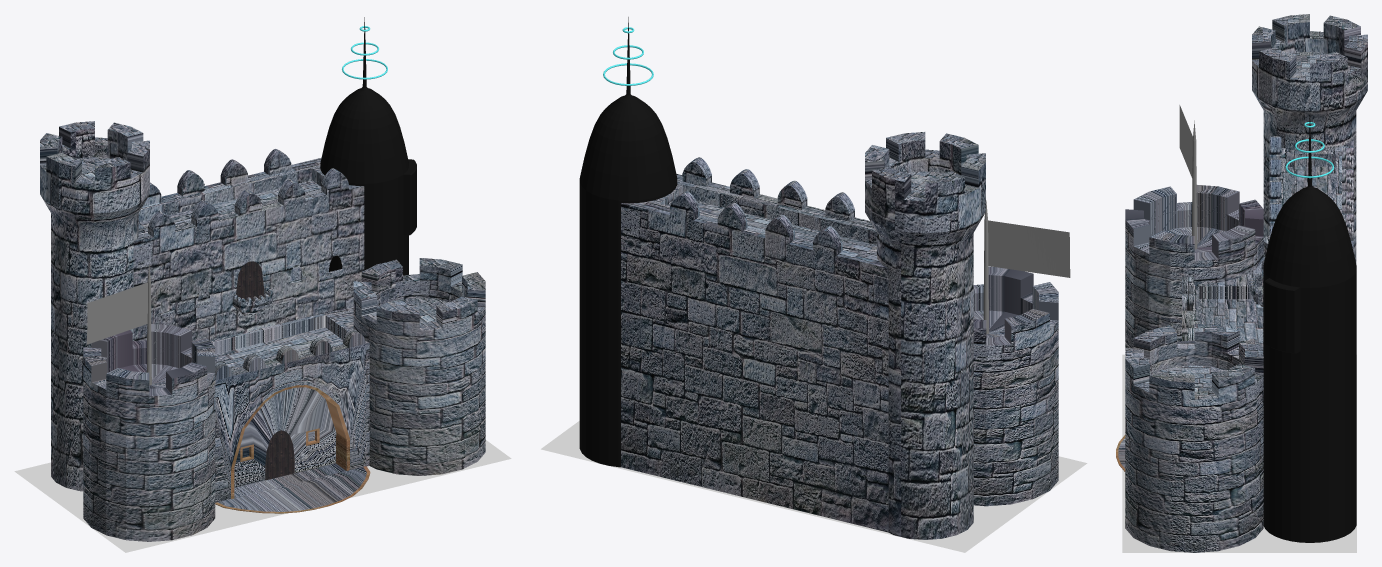
File: CastilloMateriales.FBX
3 views of the same model, side by side, from view 1: azimuth 30°, elevation 25°; view 2: azimuth 150°, elevation 25°; view 3: azimuth 270°, elevation 25° (orthographic). The views are drawn at different scales.
Parts seen in each view (by area): view 1: MurallaTrasera001, TorreBI, MurallaDelantera, TorreBD, MurallaTrasera, TorreAD, Plane001, PuertaI, PuertaI001; view 2: MurallaTrasera001, MurallaTrasera, TorreBI, TorreAD, Plane001; view 3: TorreAD, TorreBD, TorreBI, MurallaTrasera, MurallaTrasera001, MurallaDelantera, Plane001.
Part boxes in pixels (x1,y1,x2,y2): MurallaTrasera001: [133, 149, 364, 341]; TorreBI: [83, 264, 215, 541]; MurallaDelantera: [210, 306, 370, 513]; TorreBD: [353, 258, 485, 475]; MurallaTrasera: [40, 121, 149, 491]; TorreAD: [320, 17, 416, 275]; Plane001: [14, 440, 511, 552]; PuertaI: [265, 430, 279, 480]; PuertaI001: [280, 430, 294, 476]; MurallaTrasera001: [621, 157, 888, 532]; MurallaTrasera: [865, 132, 985, 539]; TorreBI: [973, 200, 1070, 506]; TorreAD: [579, 17, 677, 467]; Plane001: [541, 421, 1087, 552]; TorreAD: [1263, 114, 1356, 542]; TorreBD: [1125, 323, 1263, 552]; TorreBI: [1125, 105, 1263, 348]; MurallaTrasera: [1252, 14, 1367, 263]; MurallaTrasera001: [1249, 136, 1353, 306]; MurallaDelantera: [1116, 261, 1263, 471]; Plane001: [1122, 354, 1356, 552].
Bounding box in the file's own units: 103 × 97.4 × 53.68.
Materials: 6 (3 with a texture image).
